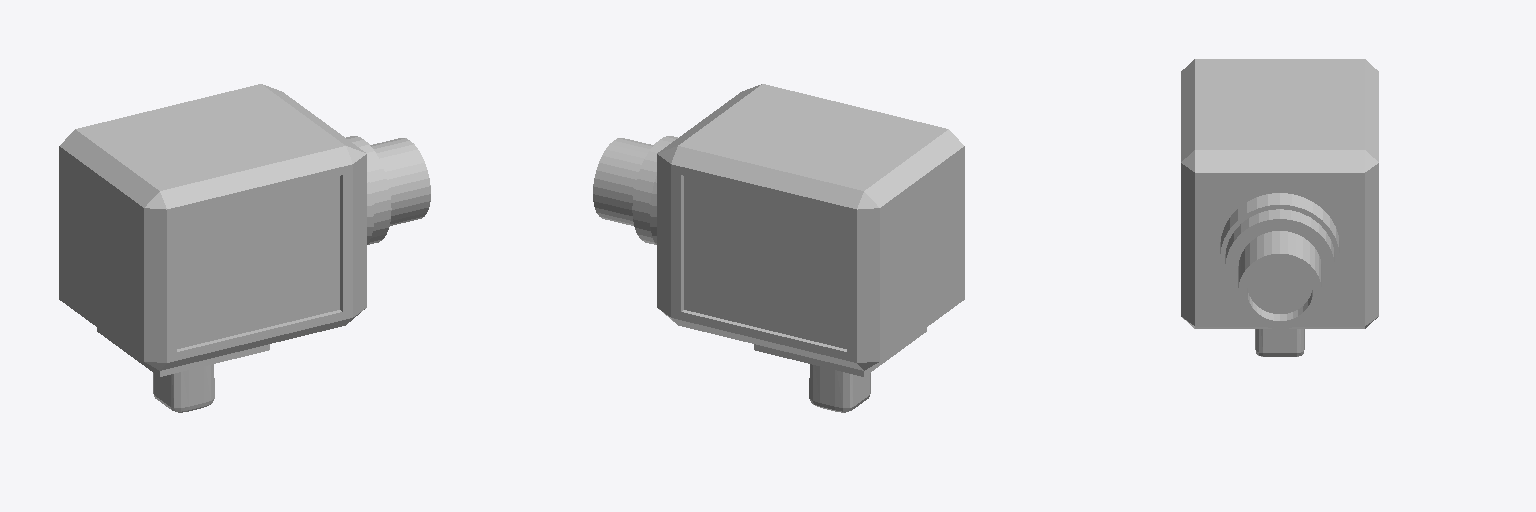
Rendered from security_cam.obj.
3 renders of one model, left to right at view 1: azimuth 30°, elevation 25°; view 2: azimuth 150°, elevation 25°; view 3: azimuth 270°, elevation 25°, orthographic.
Visible parts, largest first — view 1: CamBody, CamSecondary; view 2: CamBody, CamSecondary; view 3: CamBody, CamSecondary, Lense.
Part boxes in pixels (left/top/right/bottom): CamBody: left=59, top=84, right=366, bottom=370; CamSecondary: left=97, top=136, right=430, bottom=412; CamBody: left=657, top=84, right=964, bottom=370; CamSecondary: left=593, top=136, right=926, bottom=412; CamBody: left=1181, top=59, right=1378, bottom=328; CamSecondary: left=1220, top=193, right=1339, bottom=356; Lense: left=1248, top=262, right=1312, bottom=313.
Size of the model in its own units: 1.86 by 1.5 by 1.04.